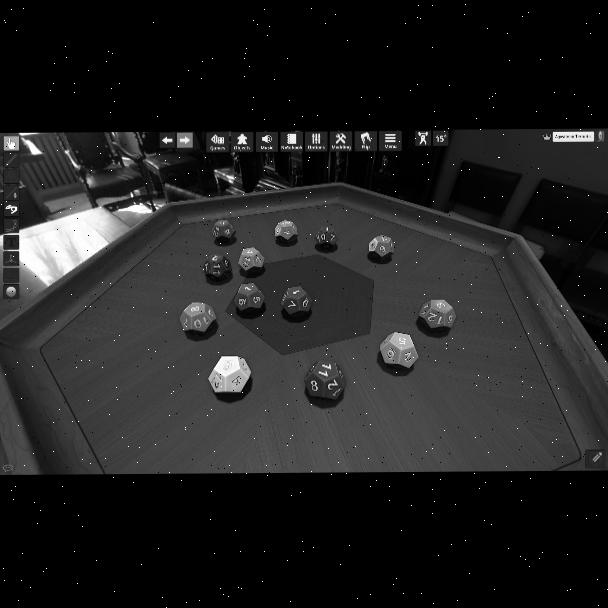d12: (303, 358, 349, 407), (208, 355, 250, 394), (380, 333, 415, 369), (180, 302, 215, 335), (418, 300, 454, 331), (281, 286, 311, 318), (235, 283, 265, 313), (203, 254, 230, 281), (238, 248, 264, 275), (368, 236, 394, 261), (212, 219, 234, 243), (314, 226, 336, 249), (275, 220, 297, 243)
